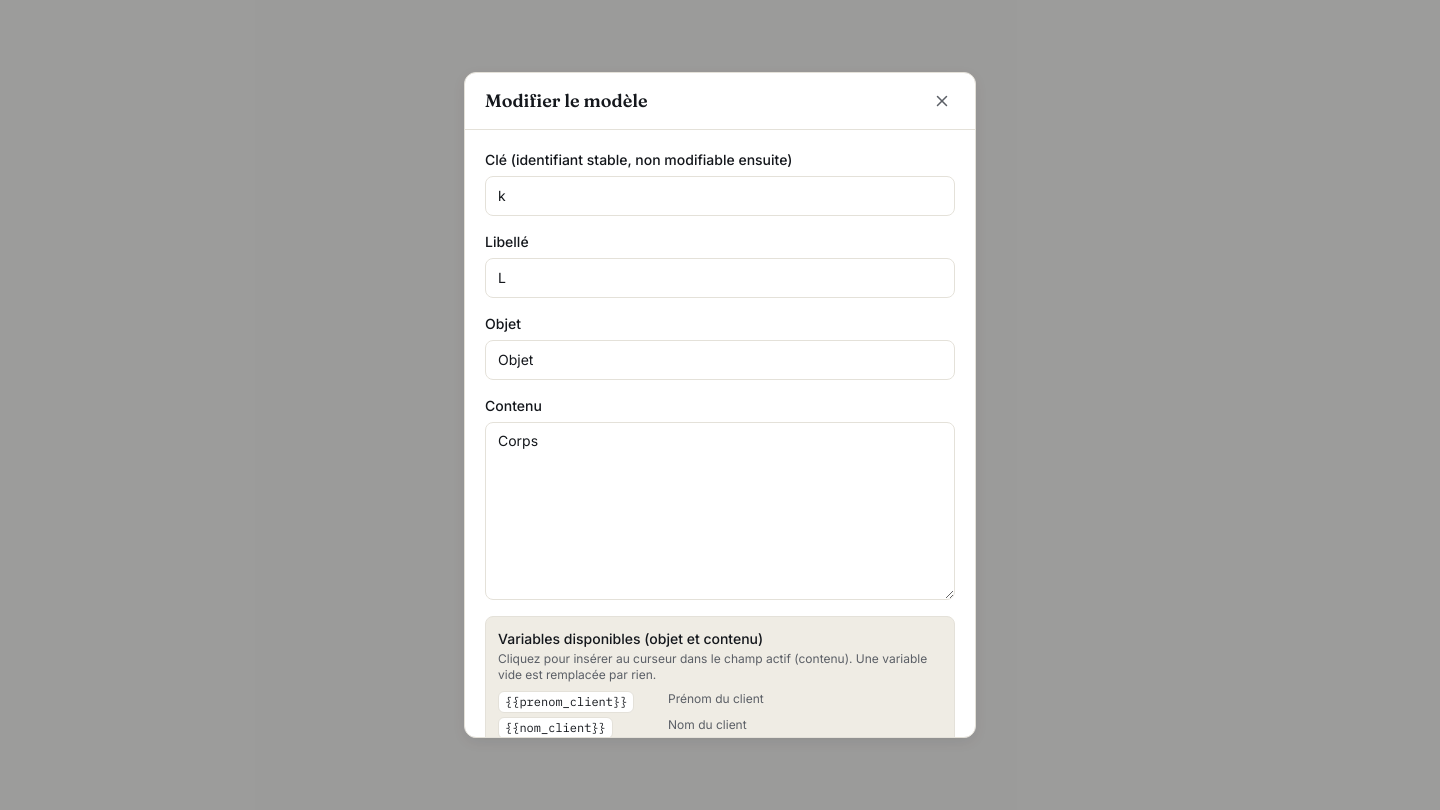
EmailTemplateFormModal — variables disponibles › retour au contenu après l'objet : l'insertion suit le dernier champ actif
Step 1. Focus the field labelled "Objet" → point(720, 360), box top-left (485, 340), bottom-right (955, 380)
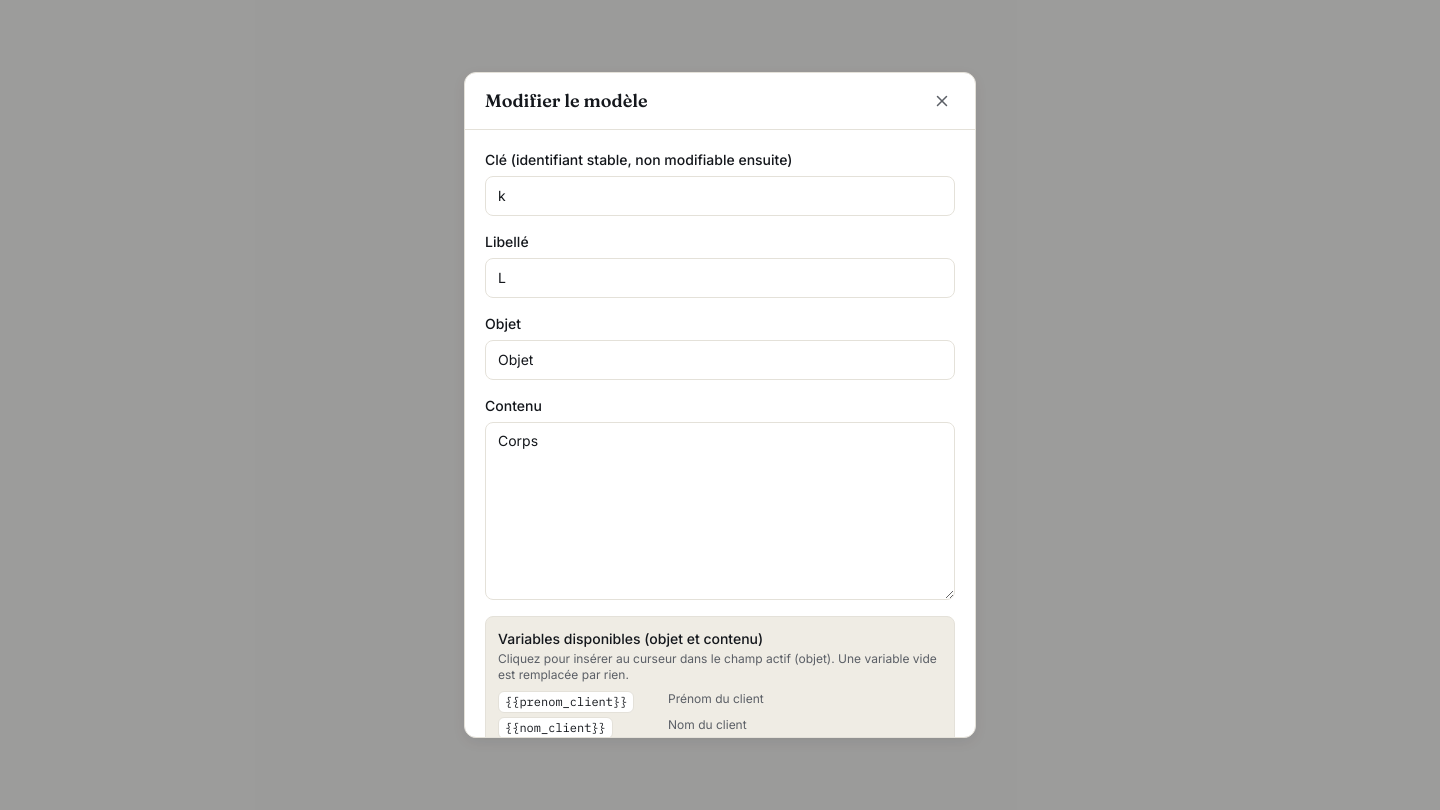
Step 2. Focus the text box labelled "Contenu" → point(720, 511), box top-left (485, 422), bottom-right (955, 600)
(page scrolled)
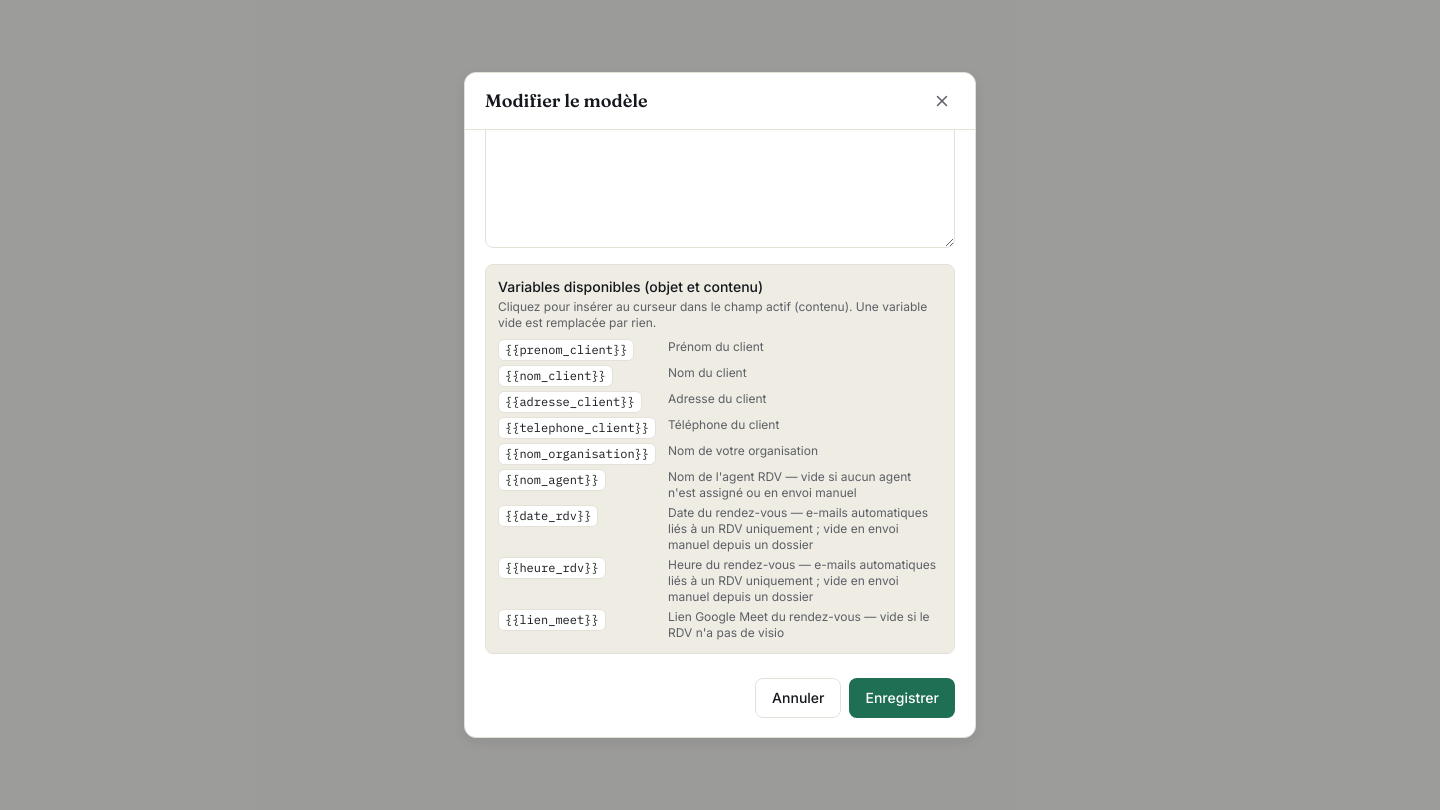
Step 3. Click the button "{{nom_organisation}}" → point(577, 454), box top-left (498, 443), bottom-right (656, 465)
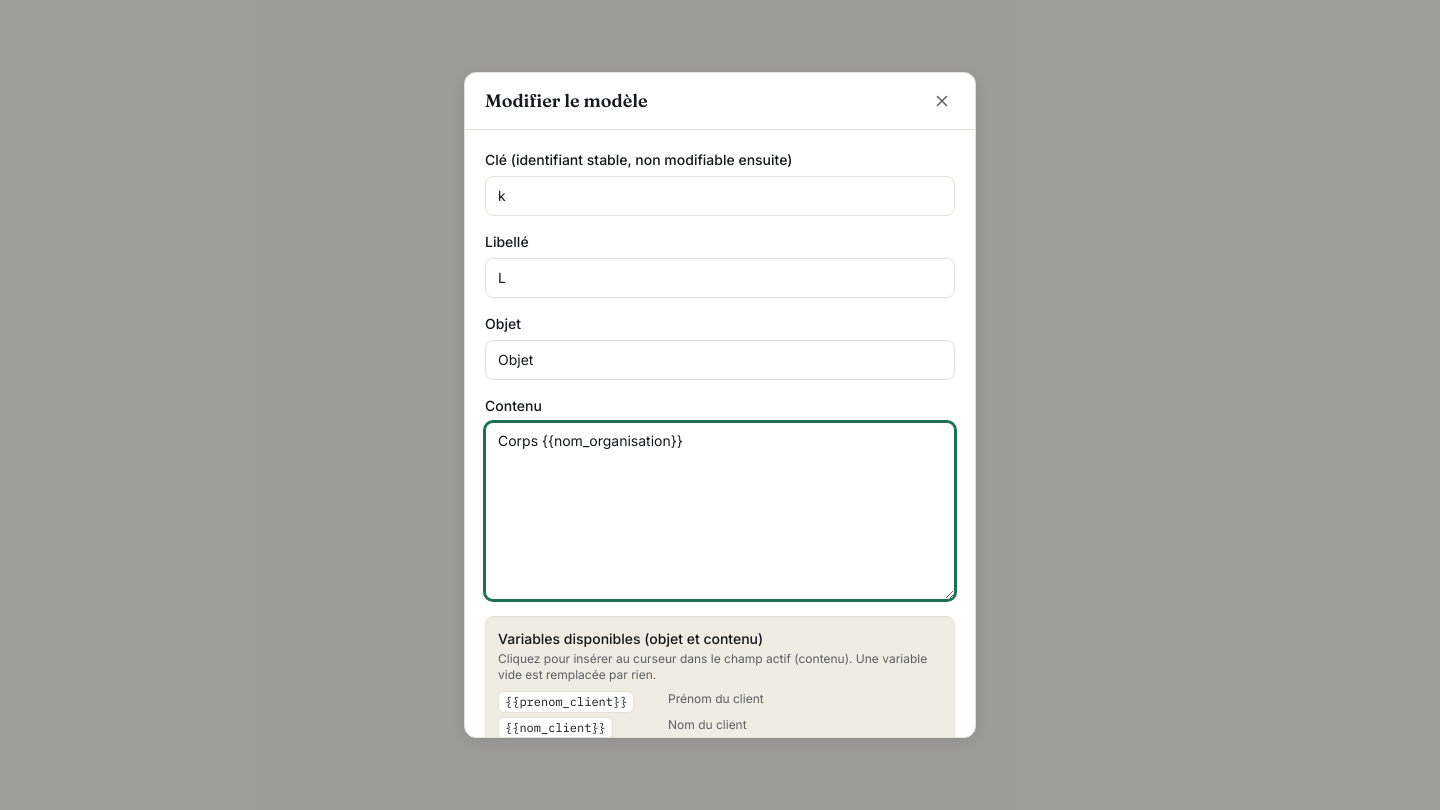
Expected: the text box labelled "Contenu" holds "Corps {{nom_organisation}}", top-left (485, 422), bottom-right (955, 600)
Expected: the field labelled "Objet" holds "Objet", top-left (485, 340), bottom-right (955, 380)
